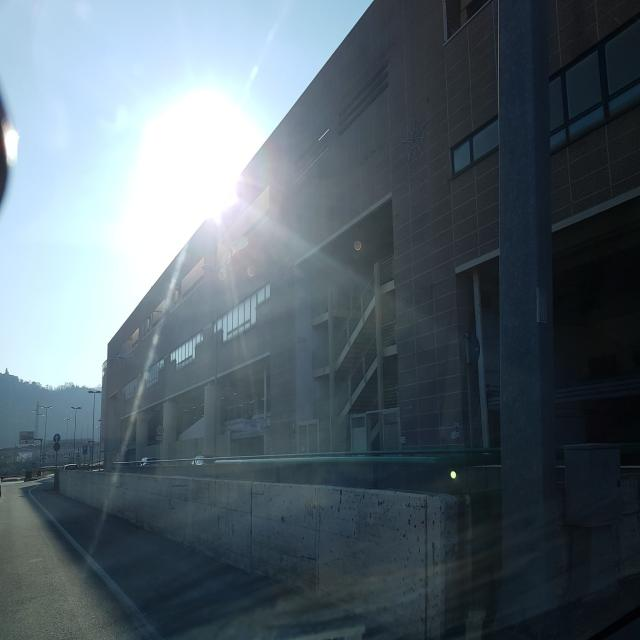car: (140, 456, 162, 466)
